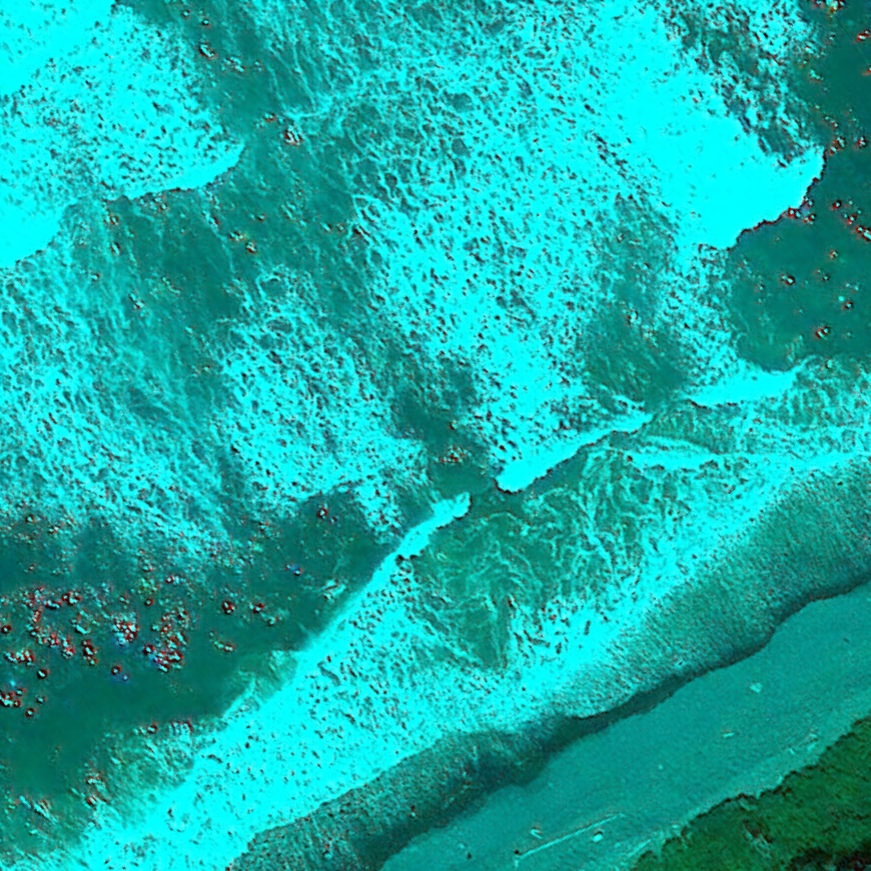rip_current: (178, 71, 554, 532)
